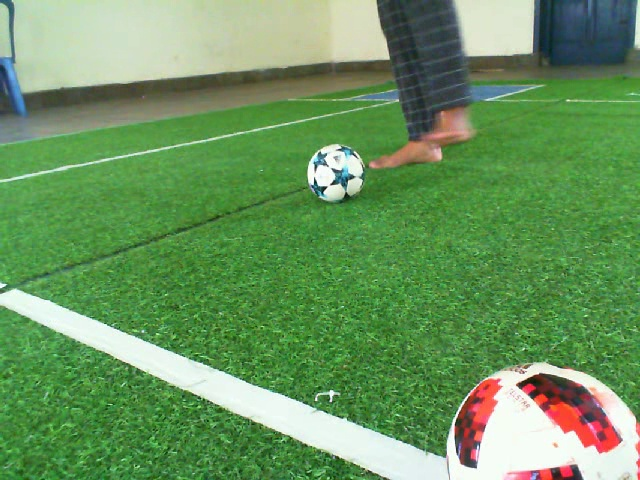ball: (444, 360, 640, 480), (305, 142, 367, 204)
